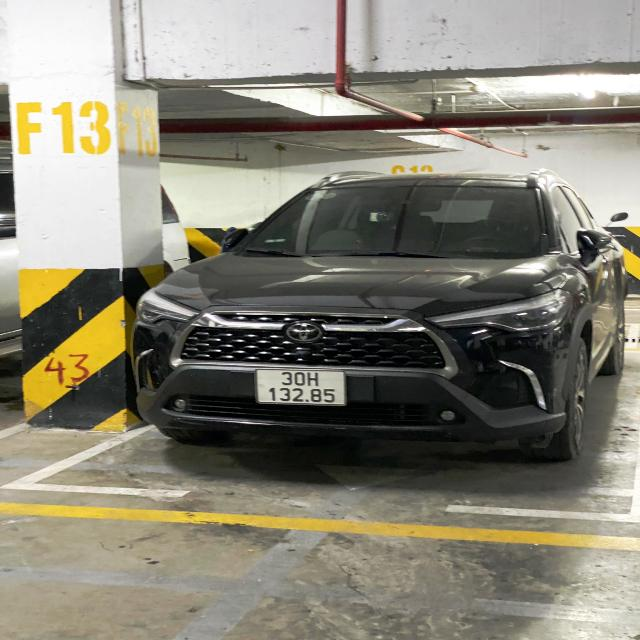license_plate: (255, 370, 348, 407)
